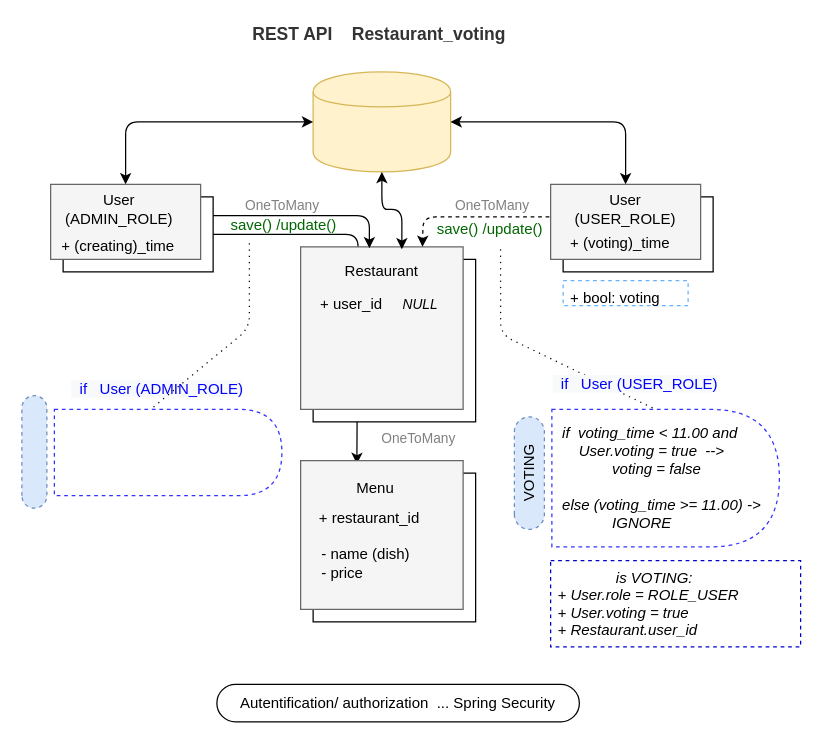
Image size: 823x744. Some labels were removed from this diagram. The centre of each missing label's shape, as x and y in pixels:
"DB" goes at point (381, 121).
"if creating_date = is new --> save() new ! Menu else --> update() Menu" goes at point (167, 452).
"new Day" goes at point (34, 451).
